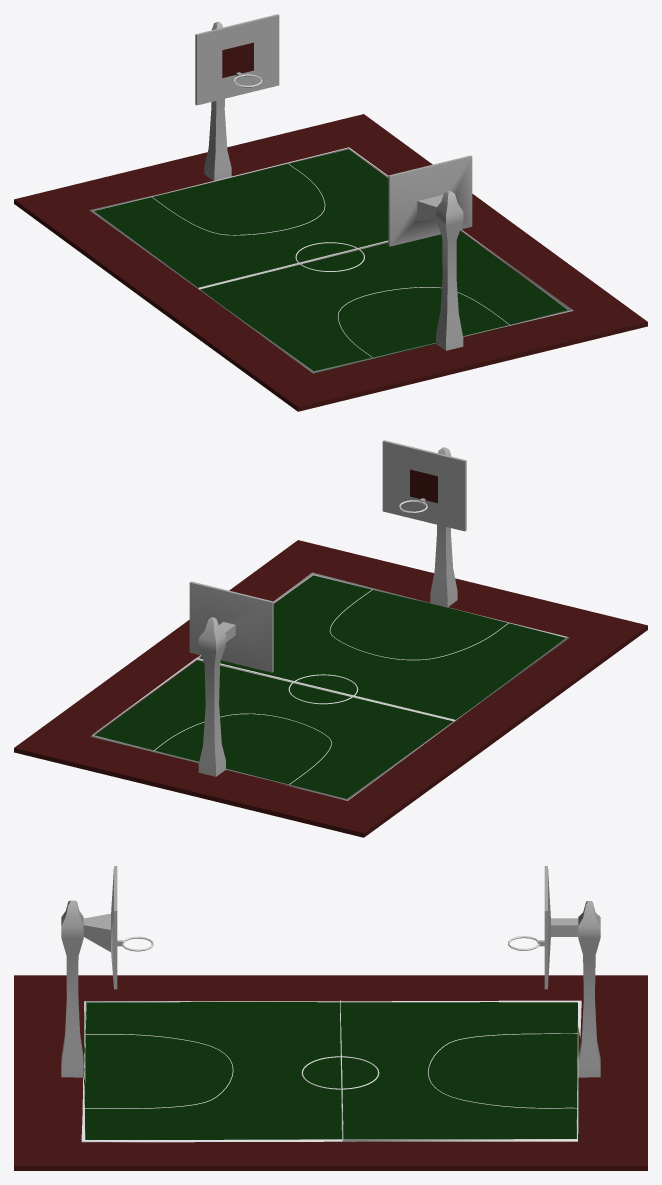
Rendered from basket.glb.
The picture shows the model from 3 angles, top to bottom: view 1: azimuth 30°, elevation 25°; view 2: azimuth 150°, elevation 25°; view 3: azimuth 270°, elevation 25°; orthographic projection. The views are drawn at different scales.
Visible parts, largest first — view 1: Cube, BezierCurve; view 2: Cube, BezierCurve; view 3: Cube, BezierCurve.
Part boxes in pixels (<box>): Cube: <box>14,14,647,411</box>; BezierCurve: <box>89,147,573,373</box>; Cube: <box>14,440,647,837</box>; BezierCurve: <box>91,572,569,800</box>; Cube: <box>14,866,647,1170</box>; BezierCurve: <box>81,1000,581,1142</box>.
Bounding box in the file's own units: 30.07 × 14.3 × 42.24.
